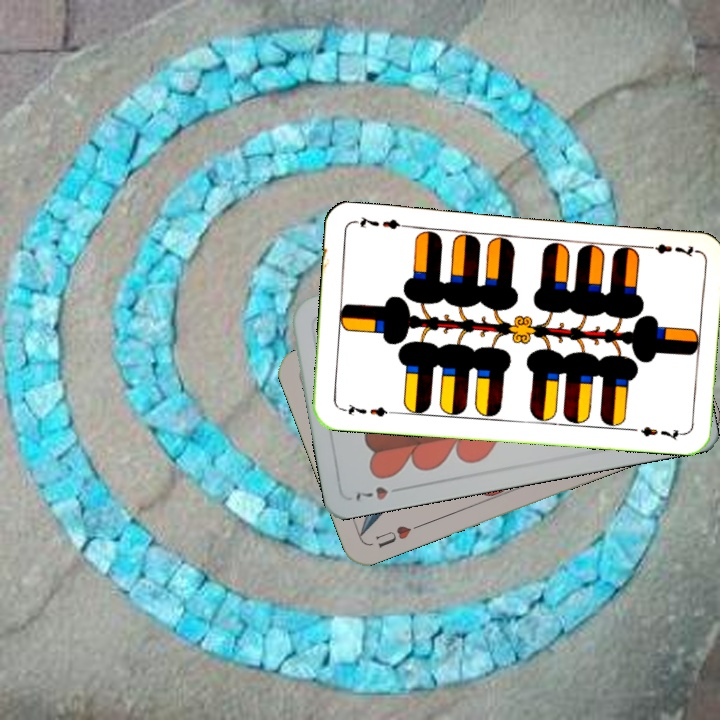E7: (639, 239, 698, 260), (337, 400, 396, 419)
H7: (351, 482, 407, 503)
HU: (371, 519, 424, 551)
